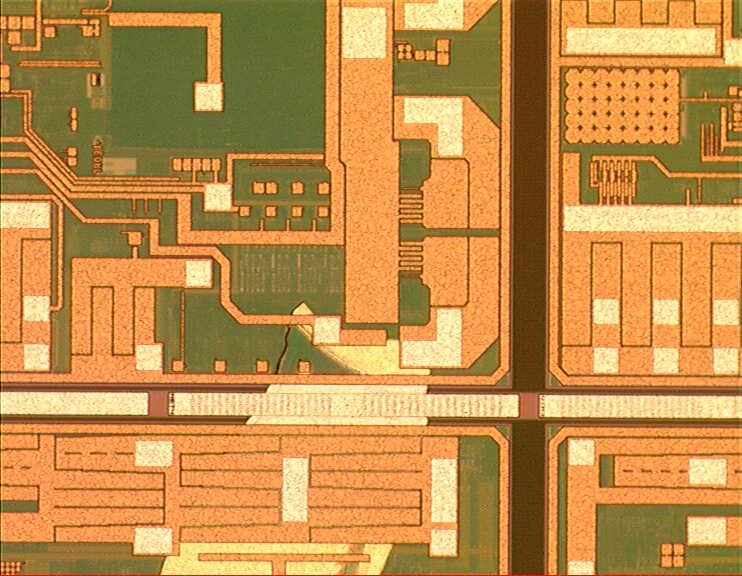BLOCK ETCH: (161, 302, 437, 576)
